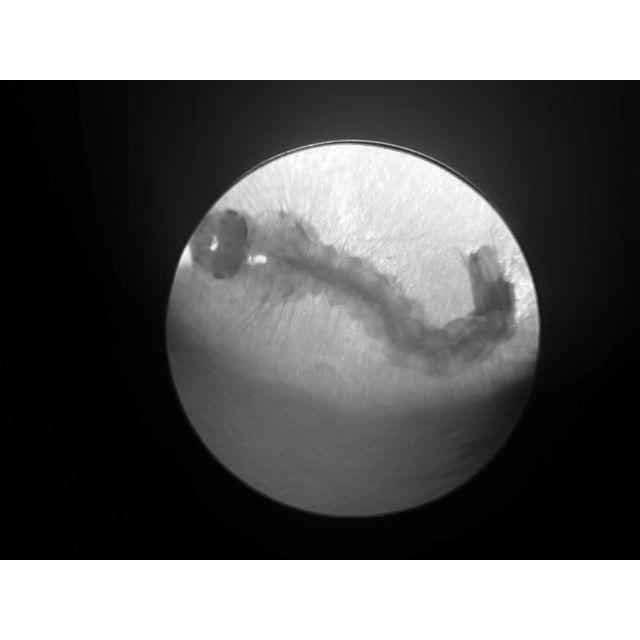larvas: (193, 200, 517, 372)
